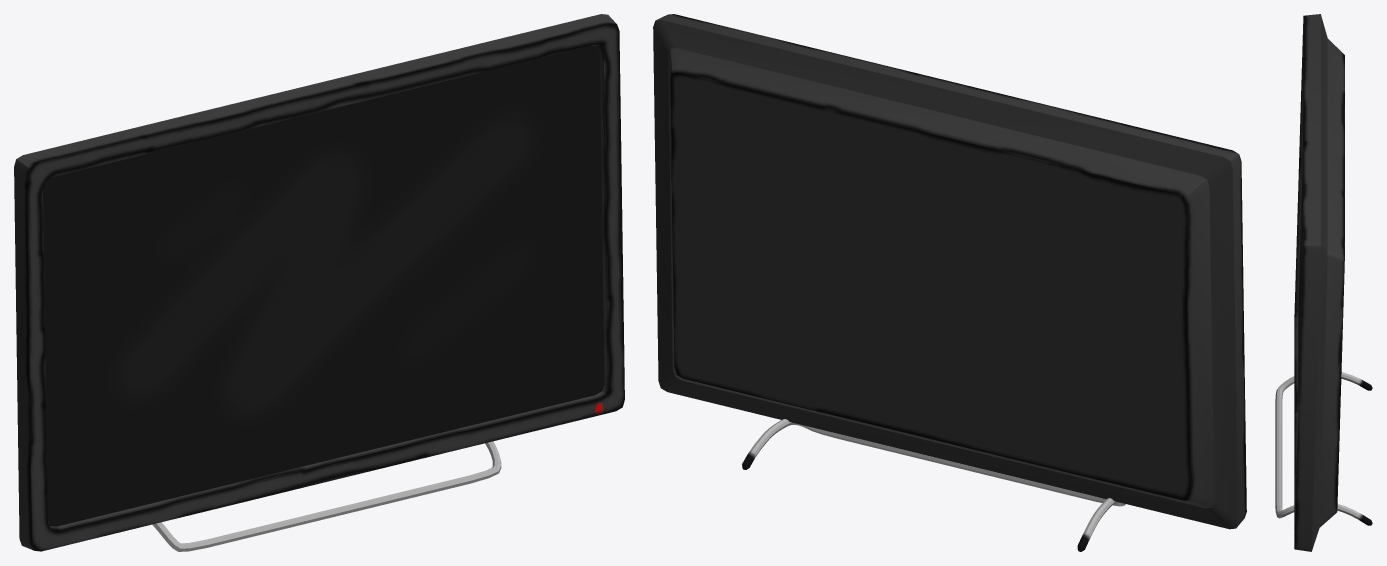
The picture shows the model from 3 angles, left to right: view 1: azimuth 30°, elevation 25°; view 2: azimuth 150°, elevation 25°; view 3: azimuth 270°, elevation 25°; orthographic projection. The views are drawn at different scales.
Parts seen in each view (by area): view 1: Mesh_TV; view 2: Mesh_TV; view 3: Mesh_TV.
Boxes of the visible parts, x1,y1,x2,y2 form: Mesh_TV: [14, 14, 624, 551]; Mesh_TV: [653, 14, 1246, 551]; Mesh_TV: [1275, 14, 1372, 551].
Size of the model in its own units: 187 by 123 by 32.98.
